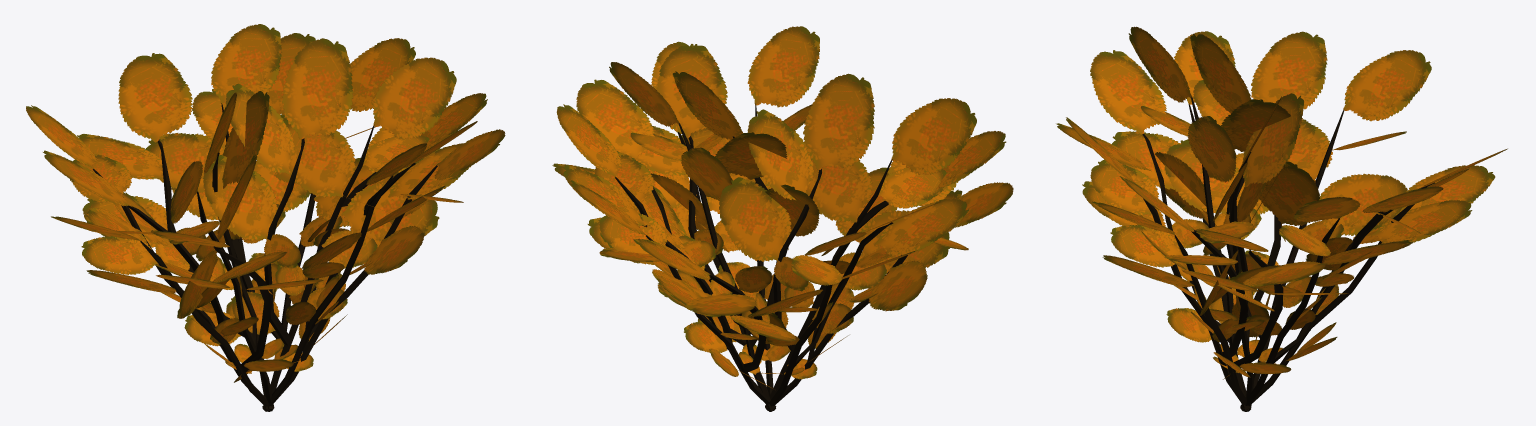
Rendered from yellowbush2.fbx.
The picture shows the model from 3 angles, left to right: view 1: azimuth 30°, elevation 25°; view 2: azimuth 150°, elevation 25°; view 3: azimuth 270°, elevation 25°; orthographic projection. The views are drawn at different scales.
Visible parts, largest first — view 1: pPlane187; view 2: pPlane187; view 3: pPlane187.
Part boxes in pixels (x1,y1,x2,y2): pPlane187: (26, 24, 505, 411); pPlane187: (552, 26, 1013, 411); pPlane187: (1056, 26, 1507, 411).
Size of the model in its own units: 15.34 by 11.62 by 13.69.
